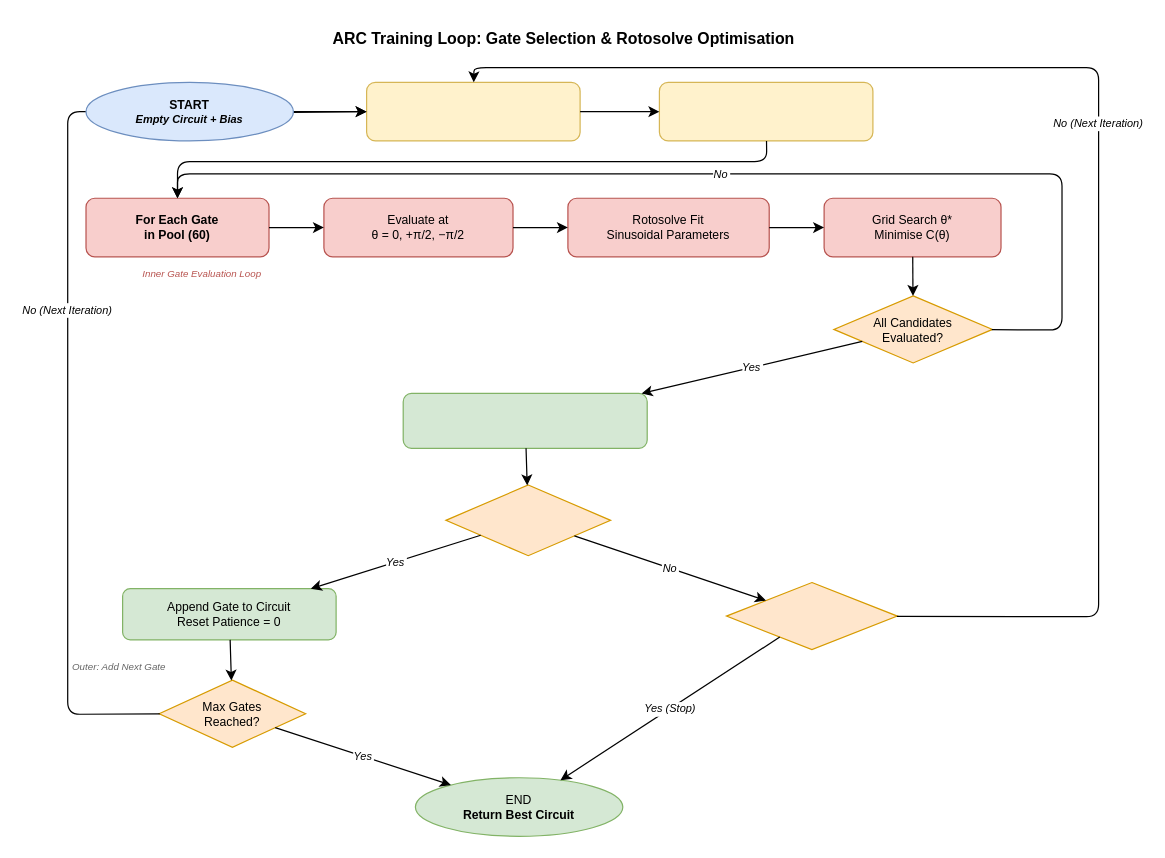
Image size: 1165x858. Some labels were removed from this diagram. Each missing label, with the box of its shape:
Cost Improved vs Best So Far?: (445, 484, 611, 556)
Patience ++ ≥ Threshold?: (725, 581, 897, 650)
Pre-bind Base Circuit to Training Samples: (658, 81, 873, 141)
Select Gate with Lowest C(θ*) → gate*, θ*, feature*: (402, 392, 647, 448)
Subsample Training Data (N = 100): (365, 81, 580, 141)
